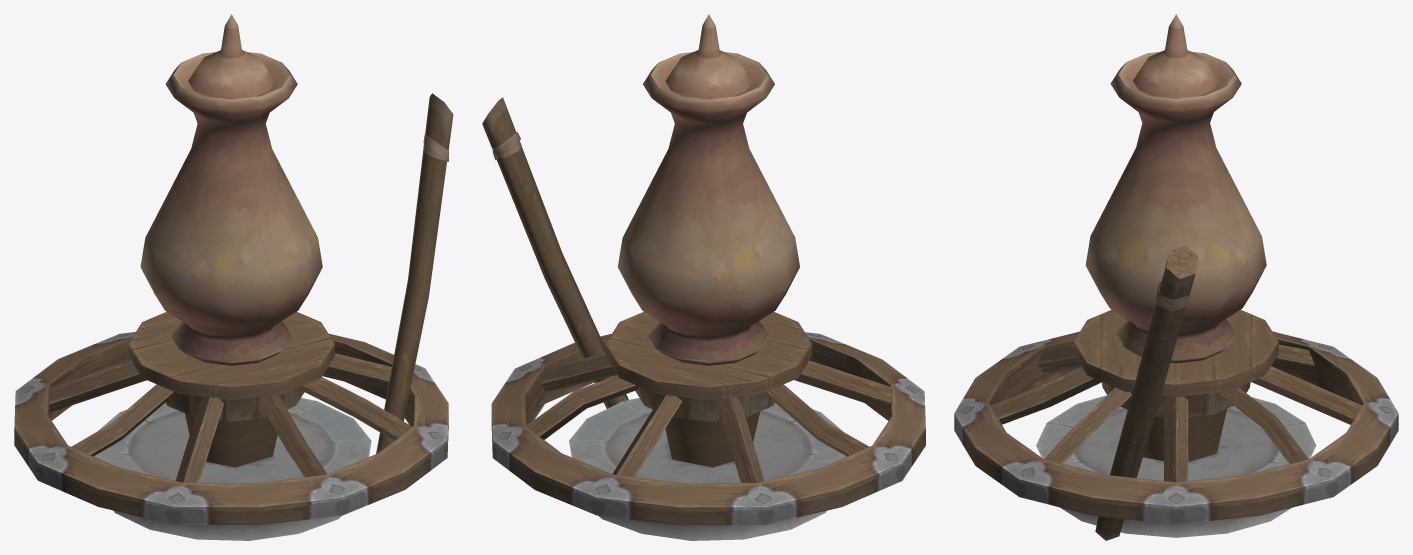
The model's file is Homeworld_Exterior_Xm_Decoration_Prop_CItytool_01_Lod0.fbx.
3 views of the same model, side by side, from view 1: azimuth 30°, elevation 25°; view 2: azimuth 150°, elevation 25°; view 3: azimuth 270°, elevation 25° (orthographic).
Parts seen in each view (by area): view 1: Area_Xm_Prop_XKC_Chengshijiaju_01_Lod0; view 2: Area_Xm_Prop_XKC_Chengshijiaju_01_Lod0; view 3: Area_Xm_Prop_XKC_Chengshijiaju_01_Lod0.
Boxes of the visible parts, x1,y1,x2,y2 form: Area_Xm_Prop_XKC_Chengshijiaju_01_Lod0: (14, 14, 453, 540); Area_Xm_Prop_XKC_Chengshijiaju_01_Lod0: (482, 14, 925, 540); Area_Xm_Prop_XKC_Chengshijiaju_01_Lod0: (954, 14, 1398, 540).
Size of the model in its own units: 2.04 by 2.21 by 1.91.
